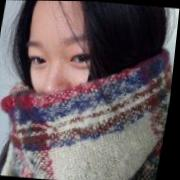WRONG: (15, 16, 127, 137)
